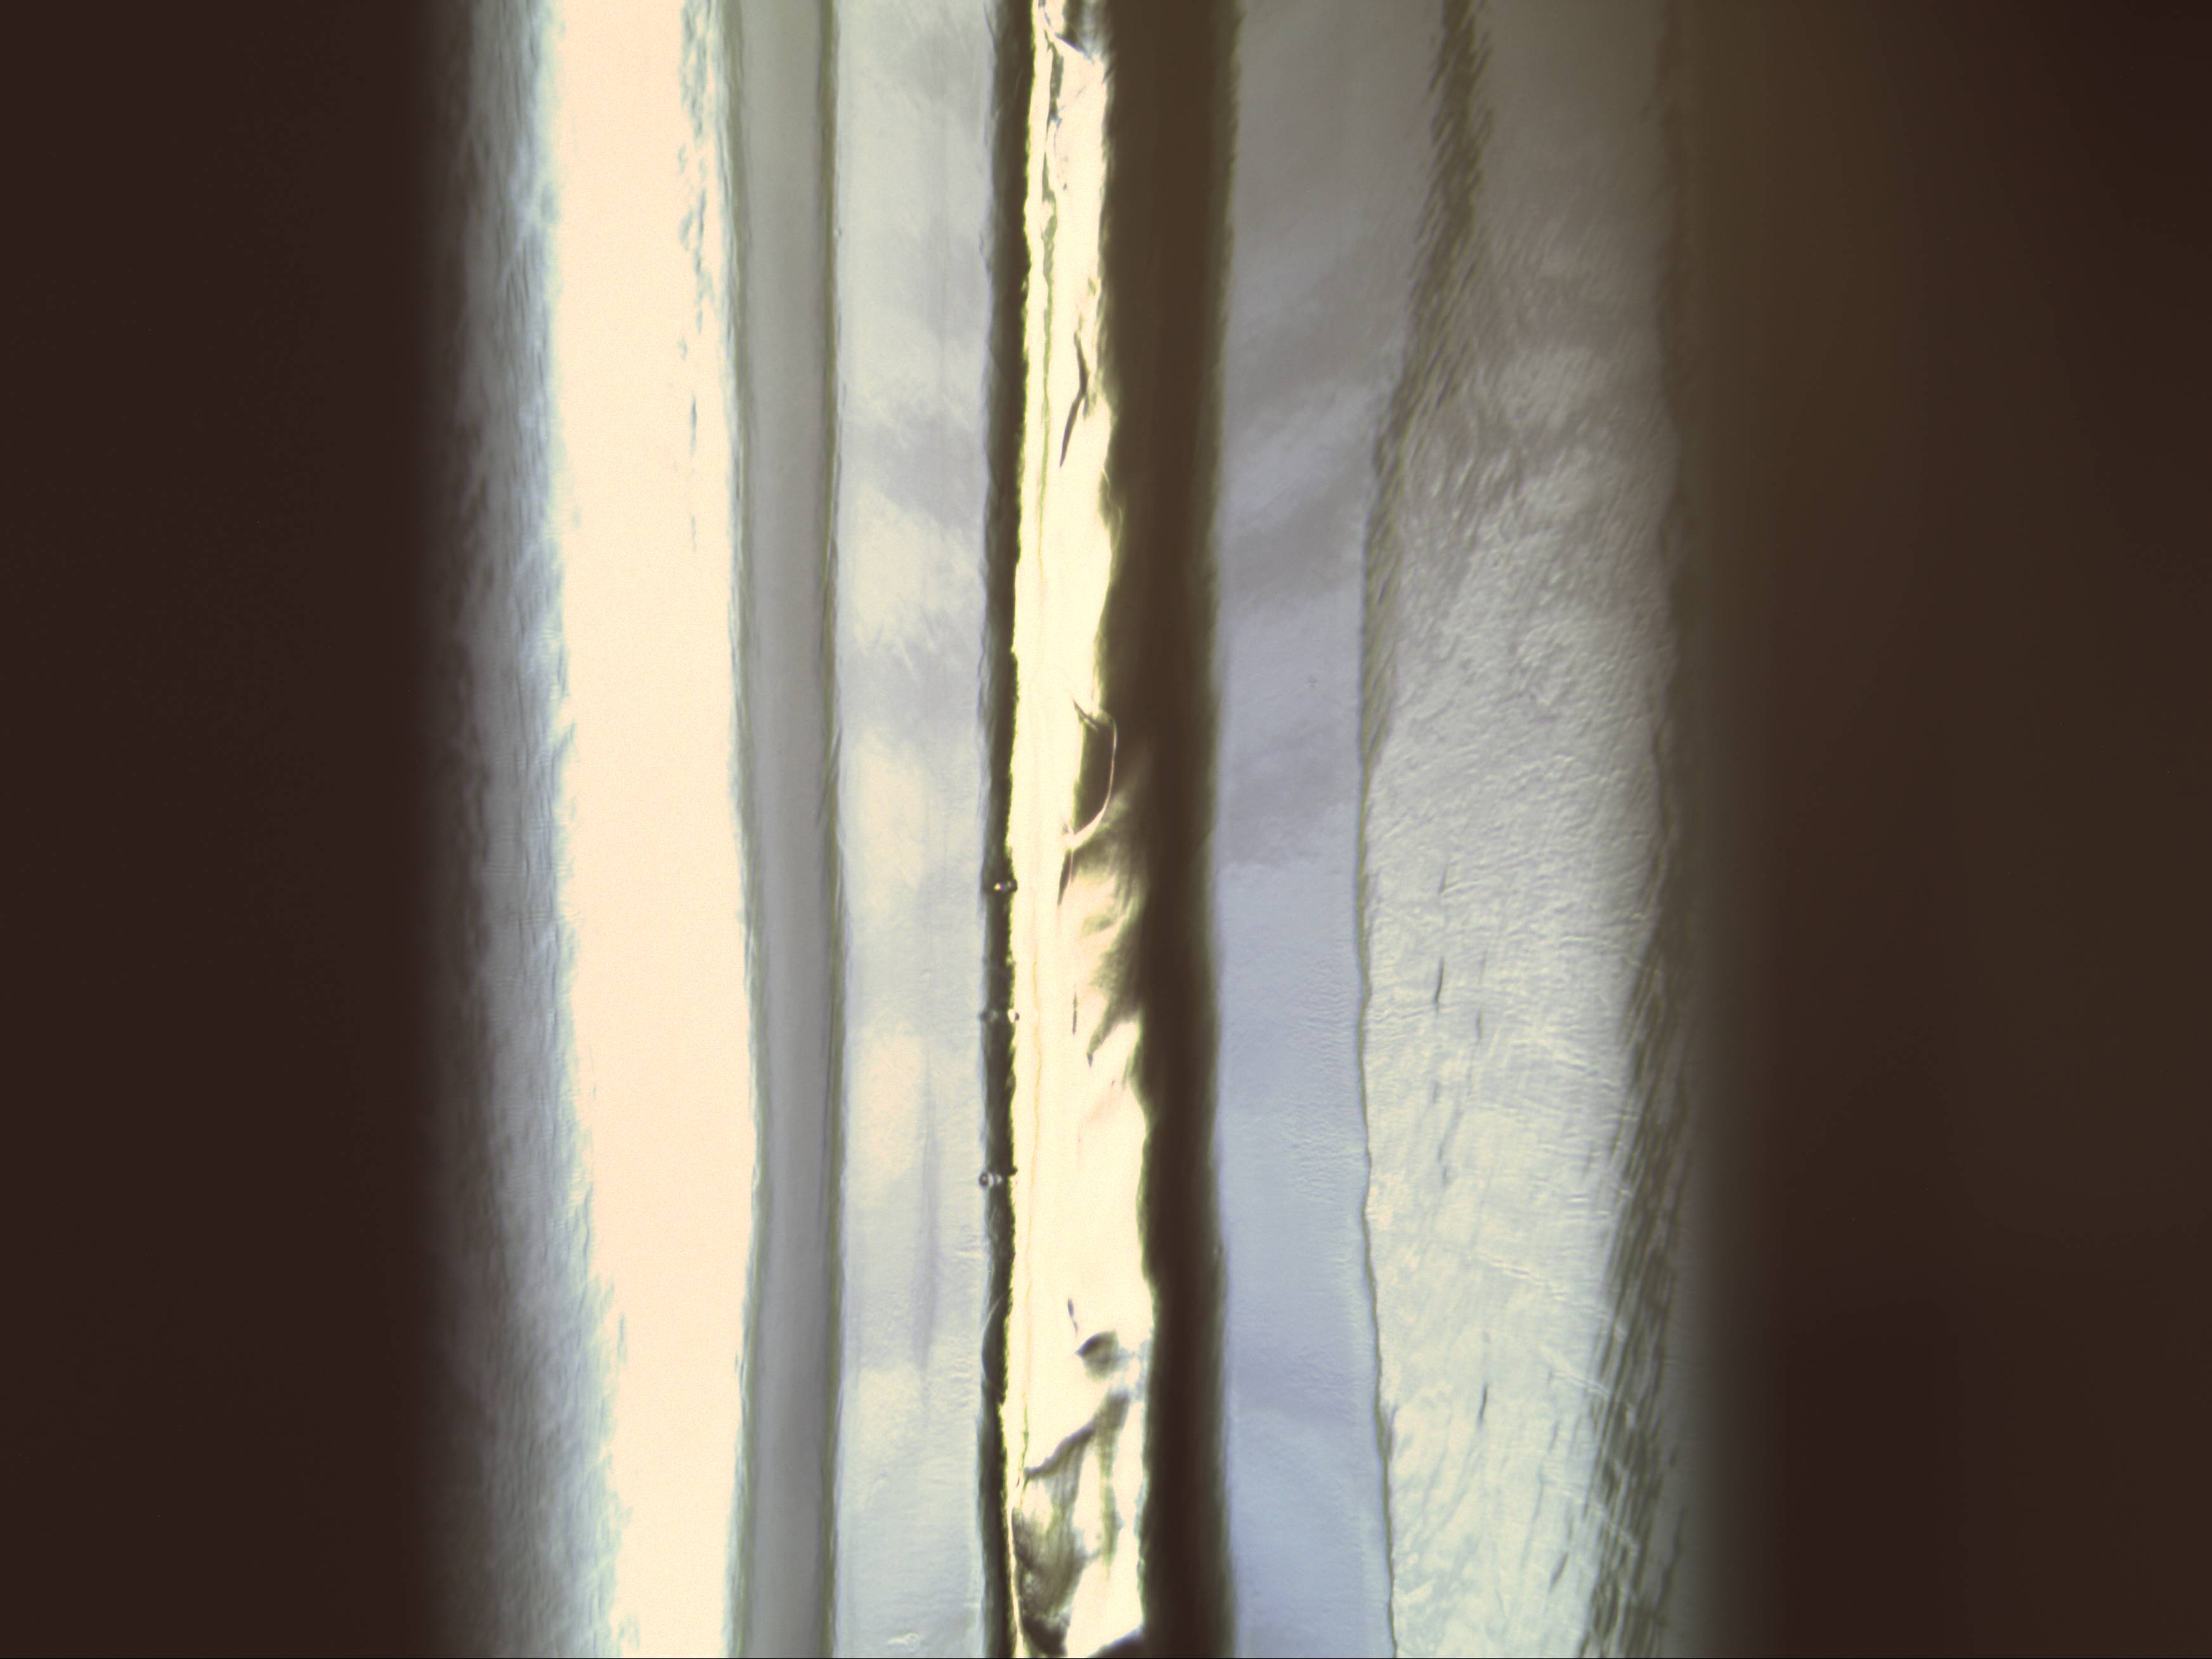defect: (977, 1162, 1021, 1192), (977, 1006, 1029, 1028), (986, 871, 1019, 899)
